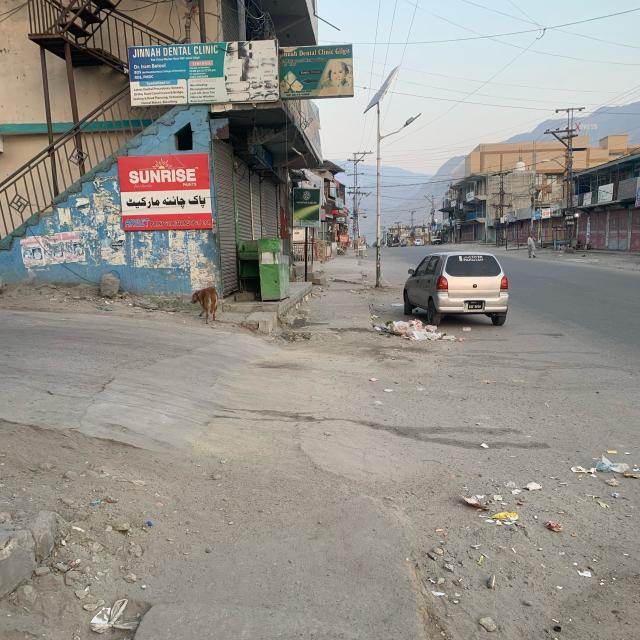Left-Turn: (18, 308, 619, 558)
straight: (386, 236, 640, 474)
